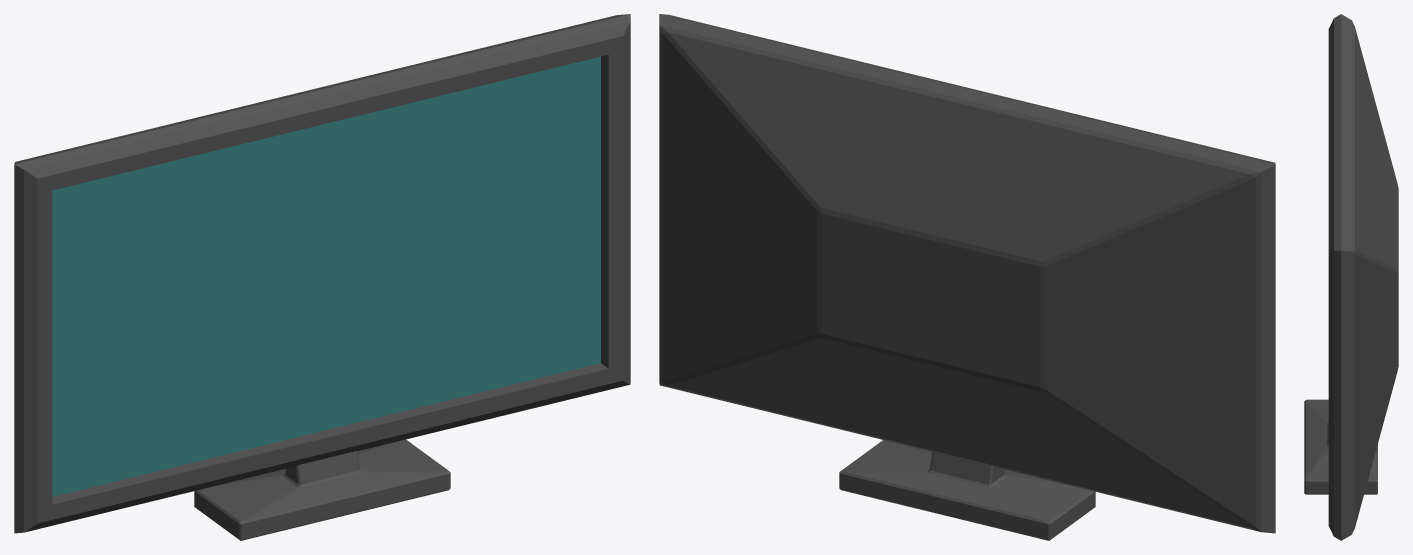
3 renders of one model, left to right at view 1: azimuth 30°, elevation 25°; view 2: azimuth 150°, elevation 25°; view 3: azimuth 270°, elevation 25°, orthographic. The views are drawn at different scales.
Parts seen in each view (by area): view 1: Television B; view 2: Television B; view 3: Television B.
Part boxes in pixels (x1,y1,x2,y2): Television B: (14,14,630,540); Television B: (659,14,1275,540); Television B: (1304,14,1398,540).
Bounding box in the file's own units: 939 × 597 × 158.
